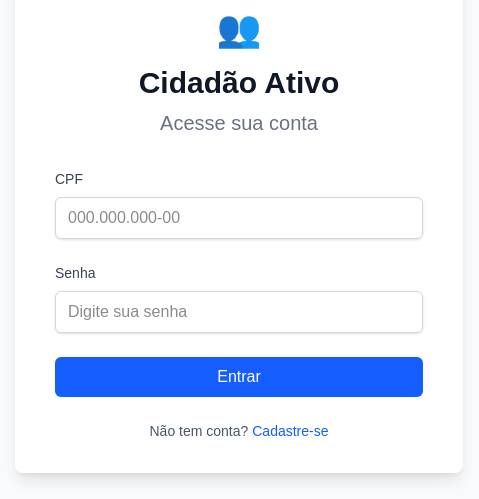
Scenario: Login Component › CPF Formatting › should format CPF as user types
Step 1. Type "13271936986" into the field labelled "CPF" → (239, 218), box [55,197,423,239]
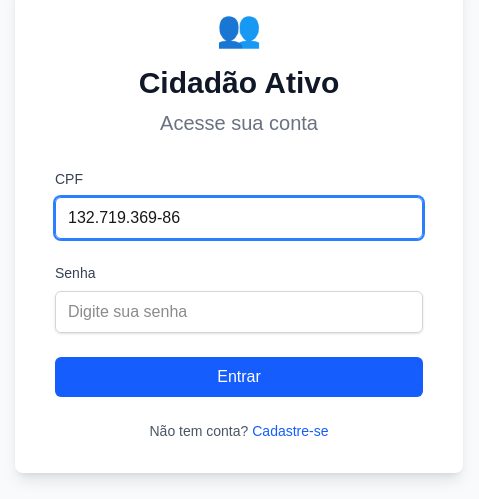
Expected: the field labelled "CPF" holds "132.719.369-86", [55,197,423,239]
